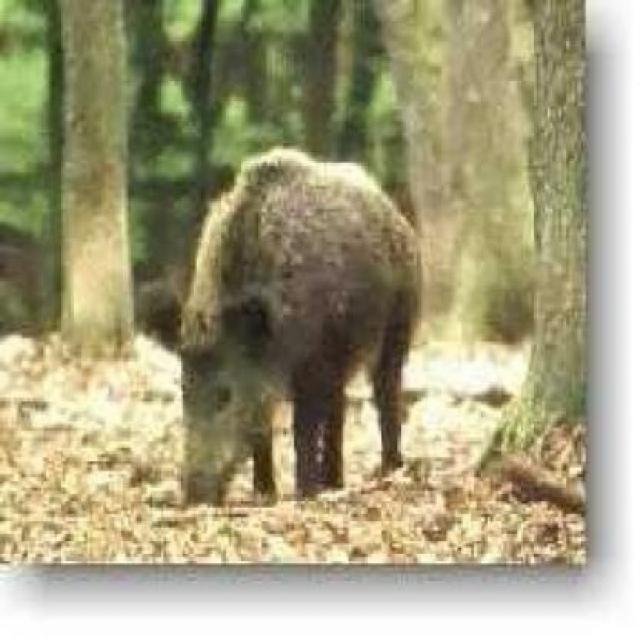pig: (163, 103, 450, 528)
